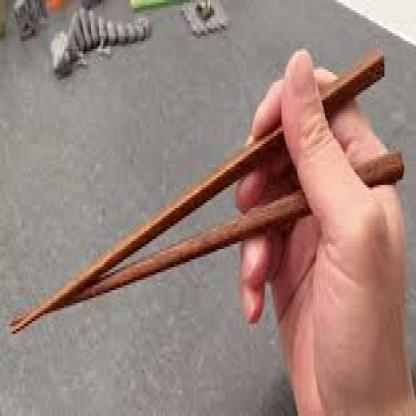chopstick: (9, 44, 388, 334), (11, 152, 406, 326)
